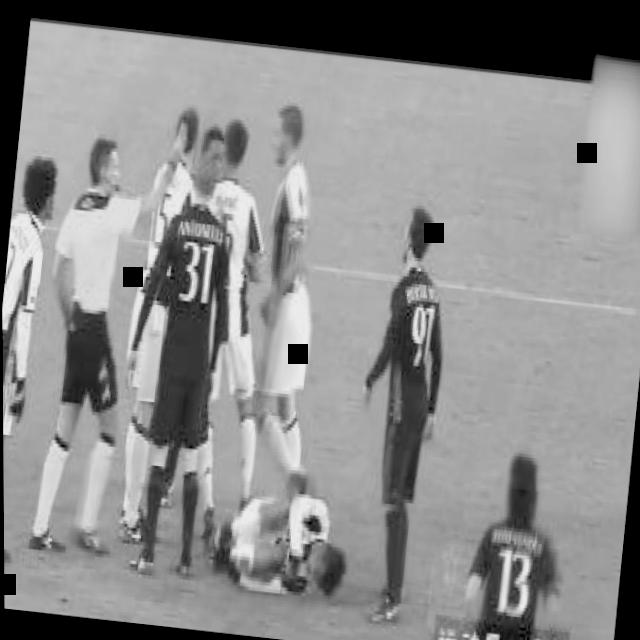Fall-Detected: (193, 444, 352, 609)
